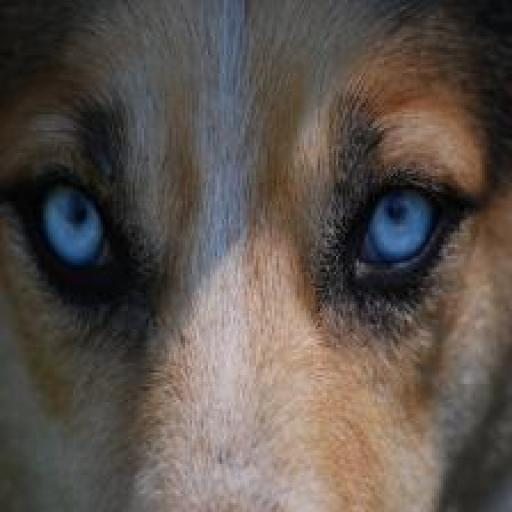wolf: (2, 2, 511, 512)
